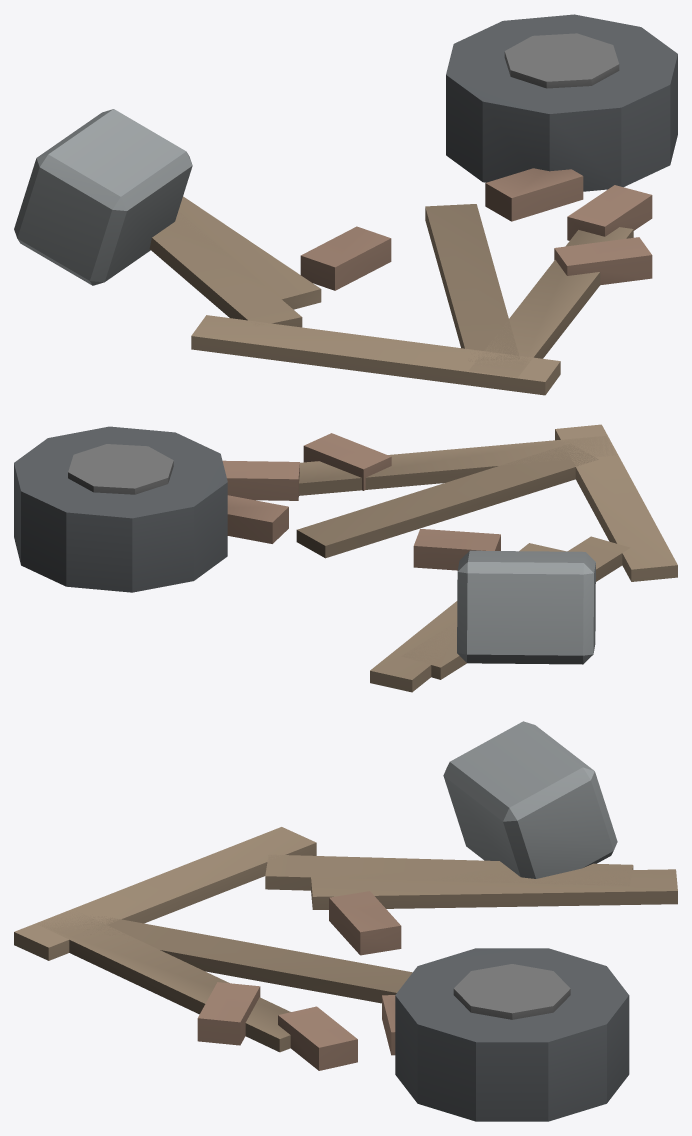
The model's file is mil_debris.glb.
3 views of the same model, one above another, from view 1: azimuth 30°, elevation 25°; view 2: azimuth 150°, elevation 25°; view 3: azimuth 270°, elevation 25° (orthographic). The views are drawn at different scales.
Visible parts, largest first — view 1: mil_debris; view 2: mil_debris; view 3: mil_debris.
Part boxes in pixels (box(x1,y1,x2,y2)): mil_debris: box(14, 14, 677, 395); mil_debris: box(14, 424, 677, 692); mil_debris: box(14, 721, 677, 1121).
Bounding box in the file's own units: 1.95 × 0.3575 × 1.82.
